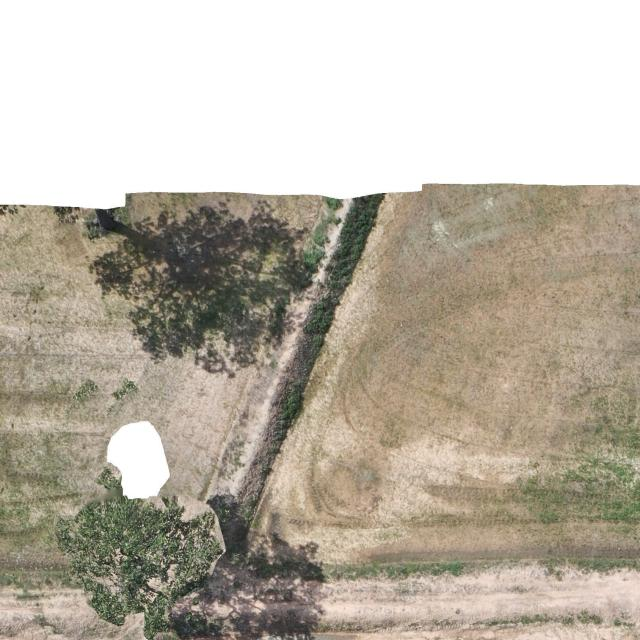Tree: (51, 466, 225, 640)
